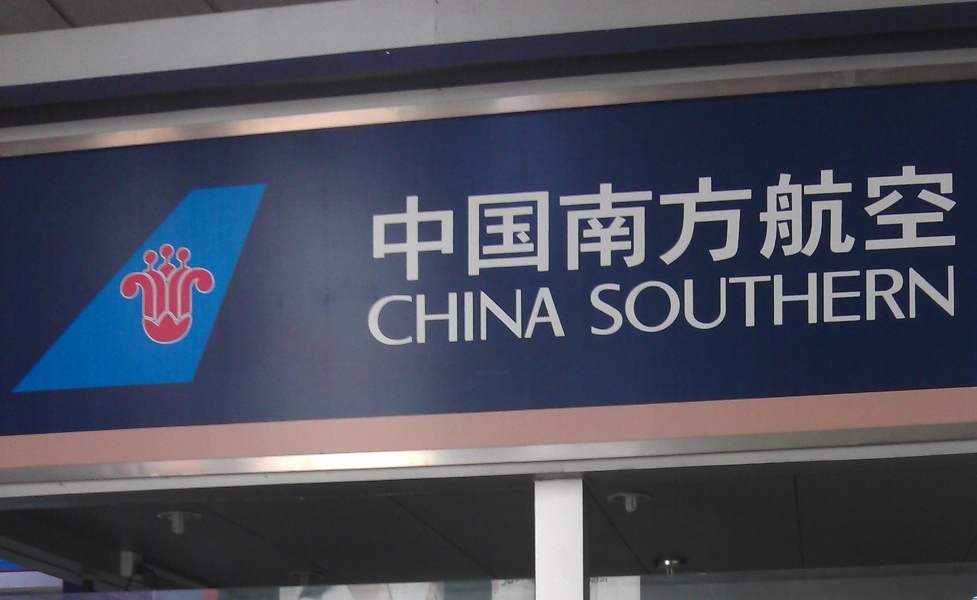text: (369, 162, 384, 287), (385, 162, 400, 287), (401, 162, 416, 287), (417, 162, 432, 287), (433, 162, 448, 287), (449, 162, 464, 287), (465, 162, 480, 287), (481, 162, 496, 287), (497, 162, 512, 287), (513, 162, 528, 287), (529, 162, 544, 287), (545, 162, 560, 287), (561, 162, 576, 287), (577, 162, 592, 287), (593, 162, 608, 287), (609, 162, 624, 287), (625, 162, 640, 287), (641, 162, 656, 287), (657, 162, 672, 287), (673, 162, 688, 287), (689, 162, 704, 287), (705, 162, 720, 287), (721, 162, 736, 287), (737, 162, 752, 287), (753, 162, 768, 287), (769, 162, 784, 287), (785, 162, 800, 287), (801, 162, 816, 287), (817, 162, 832, 287), (833, 162, 848, 287), (849, 162, 864, 287), (865, 162, 880, 287), (881, 162, 896, 287), (897, 162, 912, 287), (913, 162, 928, 287), (929, 162, 944, 287), (945, 162, 960, 287), (593, 262, 608, 340), (609, 262, 624, 340), (625, 262, 640, 340), (641, 262, 656, 340), (657, 262, 672, 340), (673, 262, 688, 340), (689, 262, 704, 340), (705, 262, 720, 340), (721, 262, 736, 340), (737, 262, 752, 340), (753, 262, 768, 340), (769, 262, 784, 340), (785, 262, 800, 340), (801, 262, 816, 340), (817, 262, 832, 340), (833, 262, 848, 340), (849, 262, 864, 340), (865, 262, 880, 340), (881, 262, 896, 340), (897, 262, 912, 340), (913, 262, 928, 340), (929, 262, 944, 340), (945, 262, 959, 340), (369, 282, 384, 348), (385, 282, 400, 348), (401, 282, 416, 348), (417, 282, 432, 348), (433, 282, 448, 348), (449, 282, 464, 348), (465, 282, 480, 348), (481, 282, 496, 348), (497, 282, 512, 348), (513, 282, 528, 348), (529, 282, 544, 348), (545, 282, 560, 348), (585, 262, 592, 340), (561, 282, 569, 348), (961, 162, 965, 287), (366, 162, 368, 287), (365, 282, 368, 348)
